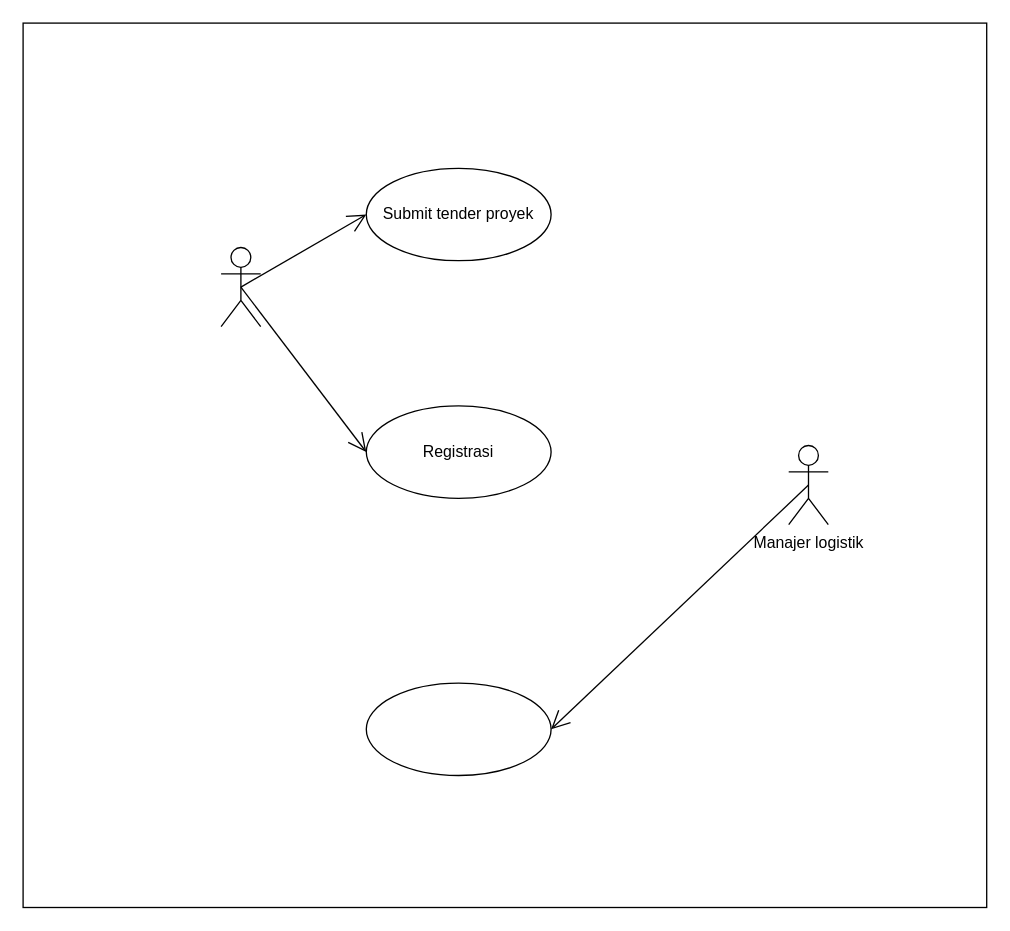
The diagram is 1010 pixels wide and 931 high, and some of its shapes have lost their labels. The shapes that lost their labels are listed below. From the top down, each one's box as (x1, y1, x2, y2) in pixels, then its label:
(220, 246, 261, 327): Vendor
(365, 682, 551, 776): Approval
